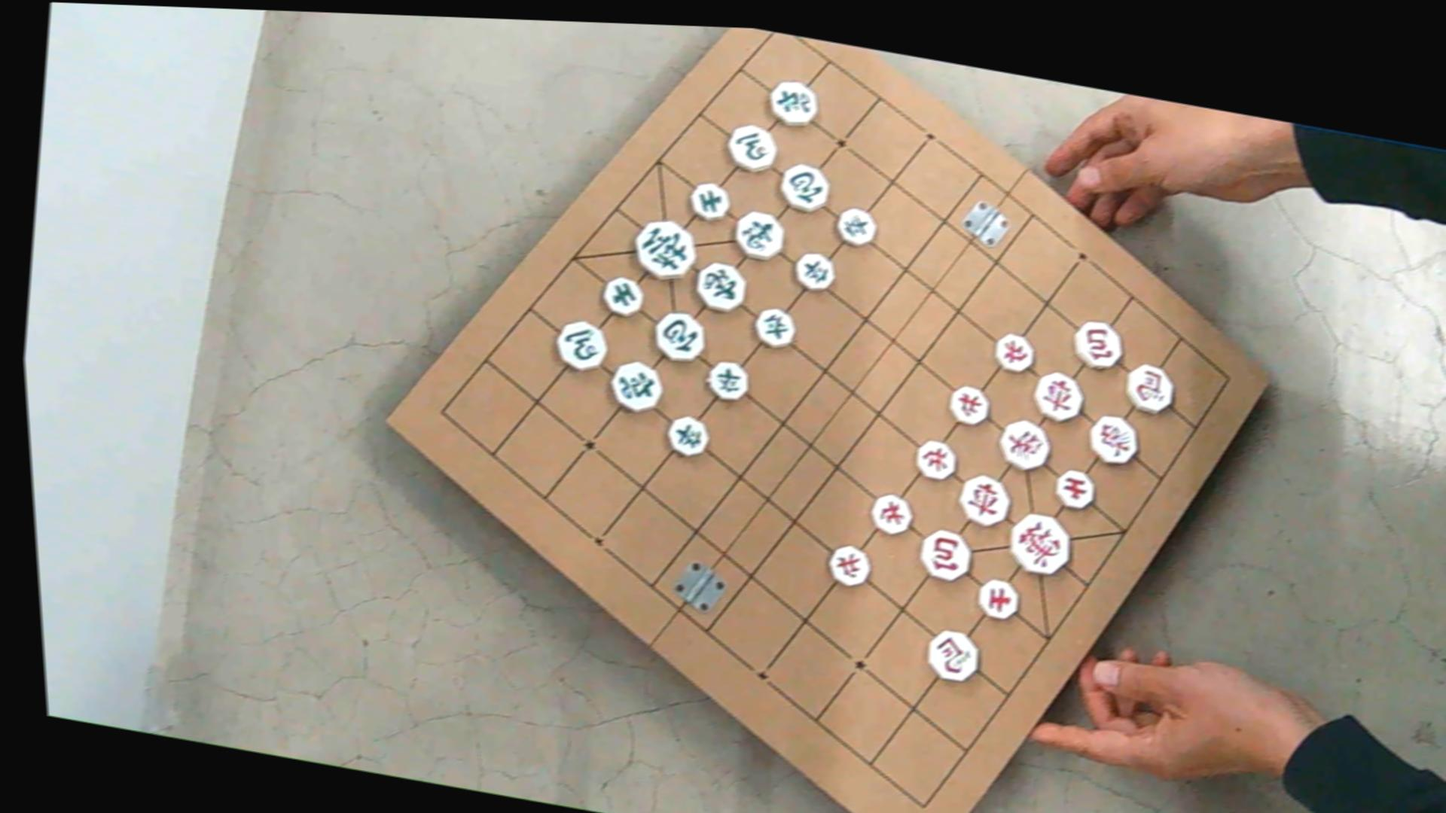cha_green: (605, 358, 665, 416), (766, 78, 821, 129)
cha_red: (954, 472, 1014, 529), (1030, 369, 1087, 425)
jol_green: (664, 413, 712, 459), (705, 358, 752, 403), (833, 204, 880, 248), (752, 306, 798, 350), (792, 250, 837, 292)
jol_red: (825, 542, 874, 589), (944, 382, 993, 428), (868, 491, 916, 537), (990, 330, 1039, 374), (912, 437, 959, 482)
ma_green: (552, 317, 610, 373), (724, 121, 781, 175)
ma_red: (923, 627, 983, 685), (1122, 361, 1179, 416)
po_green: (649, 308, 709, 366), (776, 160, 833, 215)
po_red: (916, 526, 975, 583), (1069, 318, 1126, 372)
sa_green: (599, 274, 645, 318), (688, 180, 731, 224)
sa_red: (975, 577, 1022, 622), (1052, 467, 1099, 511)
sang_green: (691, 259, 749, 314), (731, 208, 787, 263)
sang_red: (996, 416, 1054, 473), (1086, 413, 1142, 467)
wang_green: (630, 215, 700, 284)
wang_red: (1004, 510, 1075, 578)
